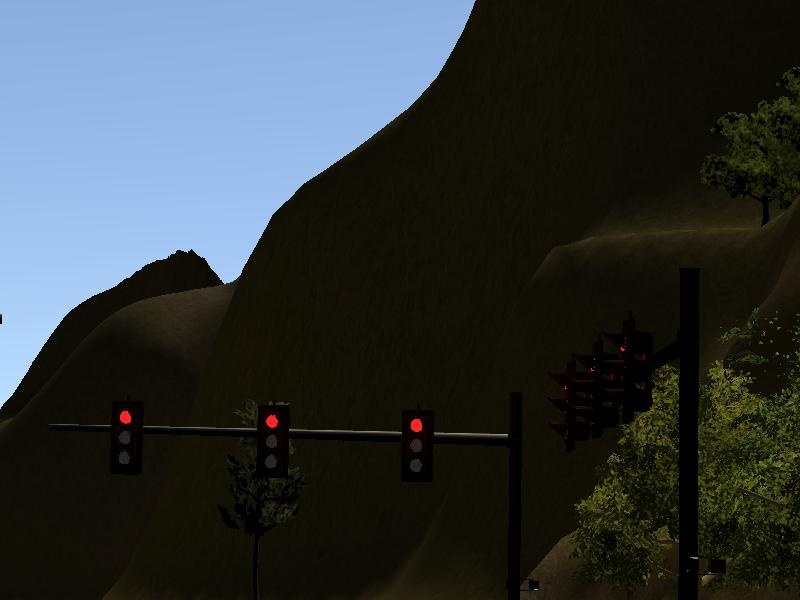RED: (251, 398, 294, 476), (108, 401, 144, 474), (400, 406, 434, 479)
